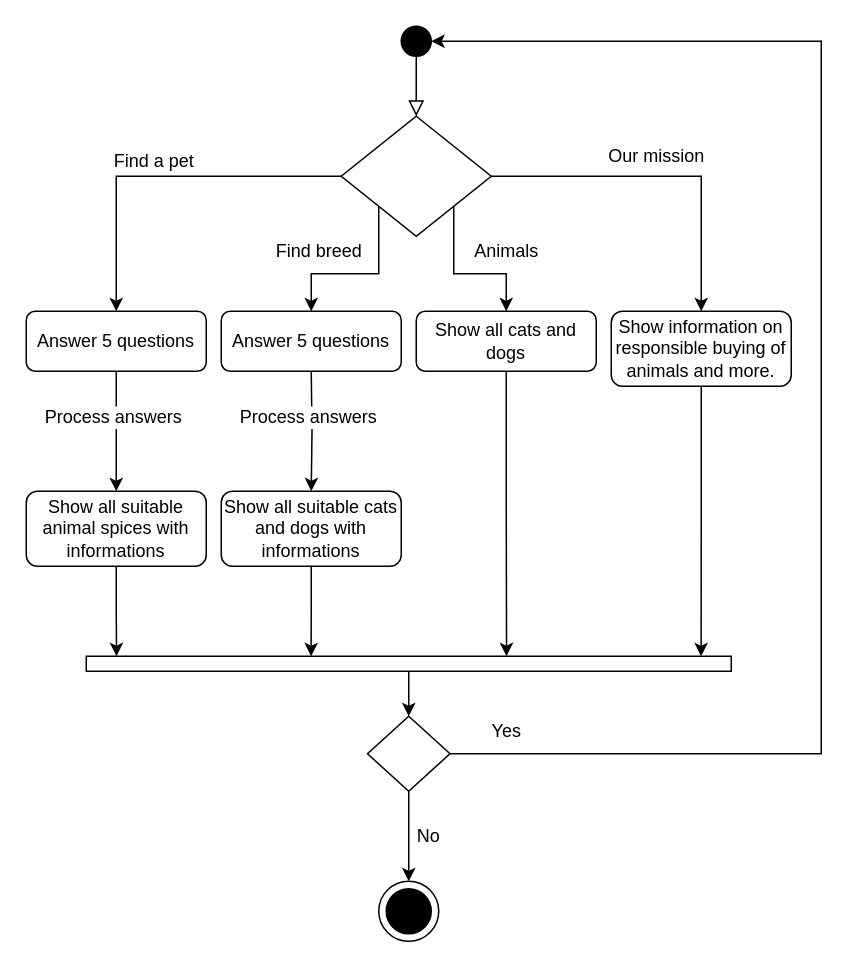
Some shapes in this 860 by 968 pixel diagram are drawn without their labels. The shapes that lost their labels are listed below. From the top down, each one's centre as x and y in pixels, then its label:
At point 415,175: "Menu".
At point 408,753: "Menu?".
